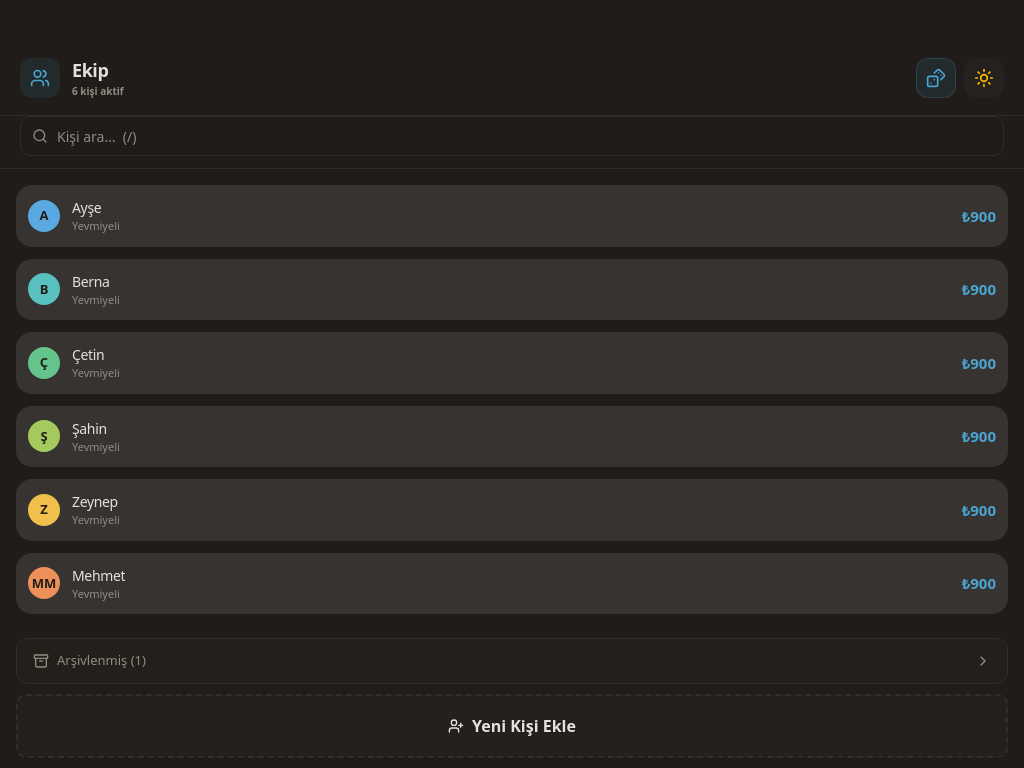
Test: WorkersScreen — arama › arşivlenmiş çalışanlar aramaya girmez
Type "yusuf" into the search field labelled "Kişi ara" at (512, 136), box [20,116,1004,156]
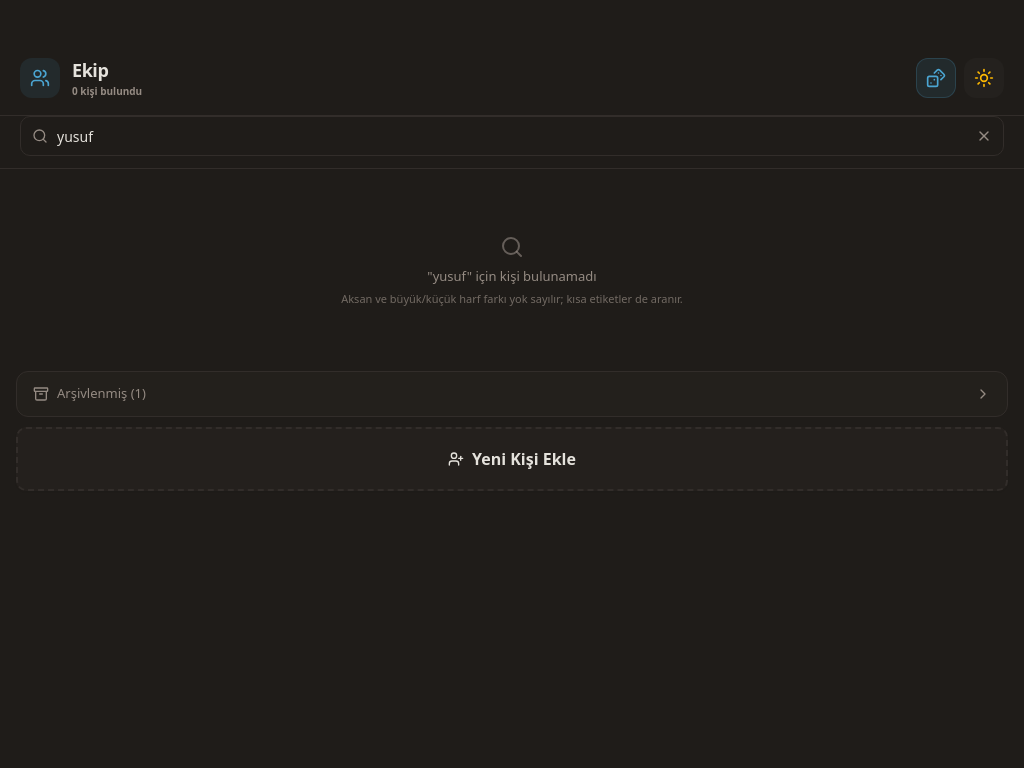
Expected: the text "\"yusuf\" için kişi bulunamadı" is shown, [427,267,597,285]
